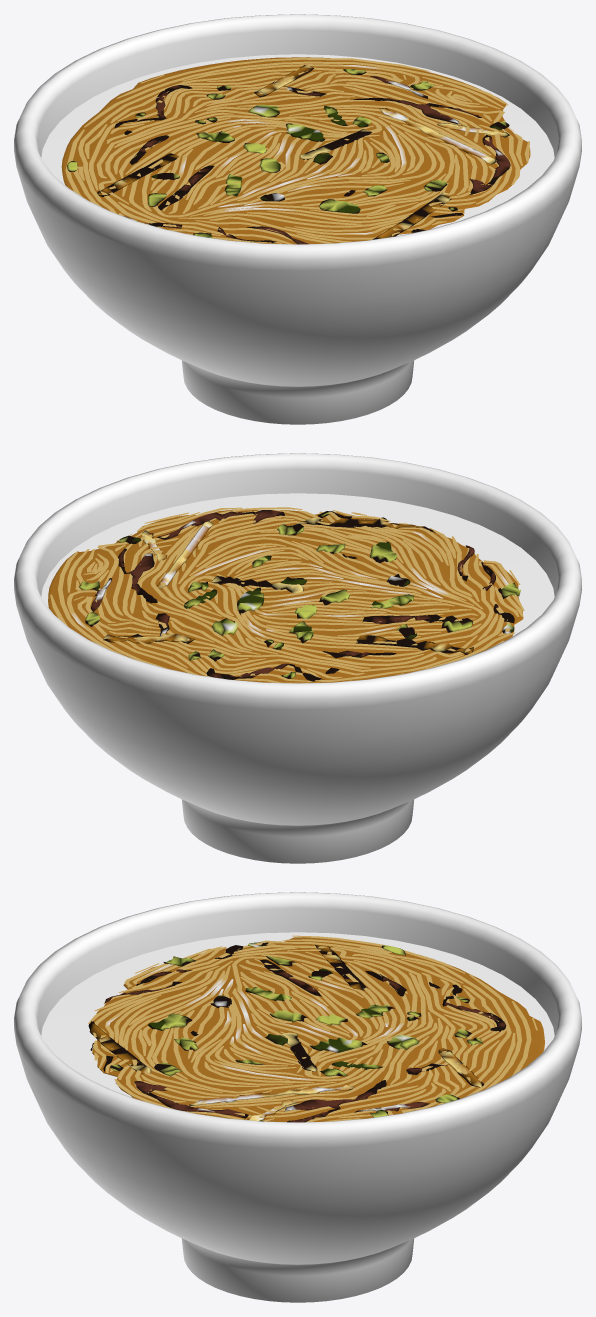
3 renders of one model, top to bottom at view 1: azimuth 30°, elevation 25°; view 2: azimuth 150°, elevation 25°; view 3: azimuth 270°, elevation 25°, orthographic.
Parts seen in each view (by area): view 1: SM_D16; view 2: SM_D16; view 3: SM_D16.
Part boxes in pixels (x1,y1,x2,y2): SM_D16: (14, 14, 581, 424); SM_D16: (14, 453, 581, 863); SM_D16: (14, 892, 581, 1302).
Bounding box in the file's own units: 0.17 × 0.082 × 0.17.
